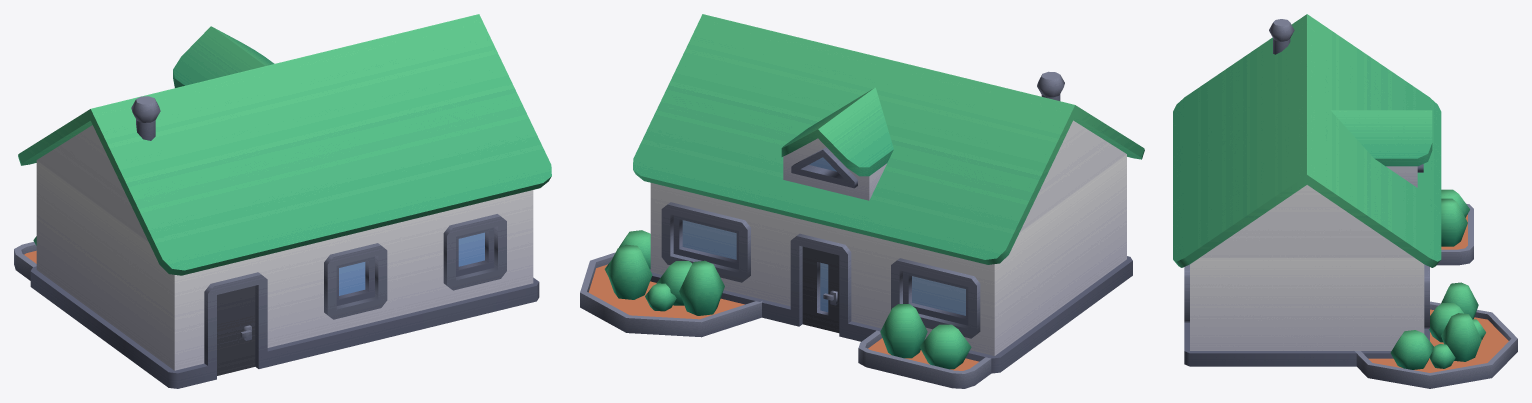
The model's file is s_building-type-g.glb.
3 views of the same model, side by side, from view 1: azimuth 30°, elevation 25°; view 2: azimuth 150°, elevation 25°; view 3: azimuth 270°, elevation 25° (orthographic). The views are drawn at different scales.
Visible parts, largest first — view 1: building-type-g; view 2: building-type-g; view 3: building-type-g.
Part boxes in pixels (left/top/right/bottom): building-type-g: left=14, top=14, right=551, bottom=388; building-type-g: left=580, top=14, right=1144, bottom=388; building-type-g: left=1173, top=14, right=1517, bottom=388.
Size of the model in its own units: 1.45 by 0.7722 by 1.18.
Materials: 1 (1 with a texture image).
